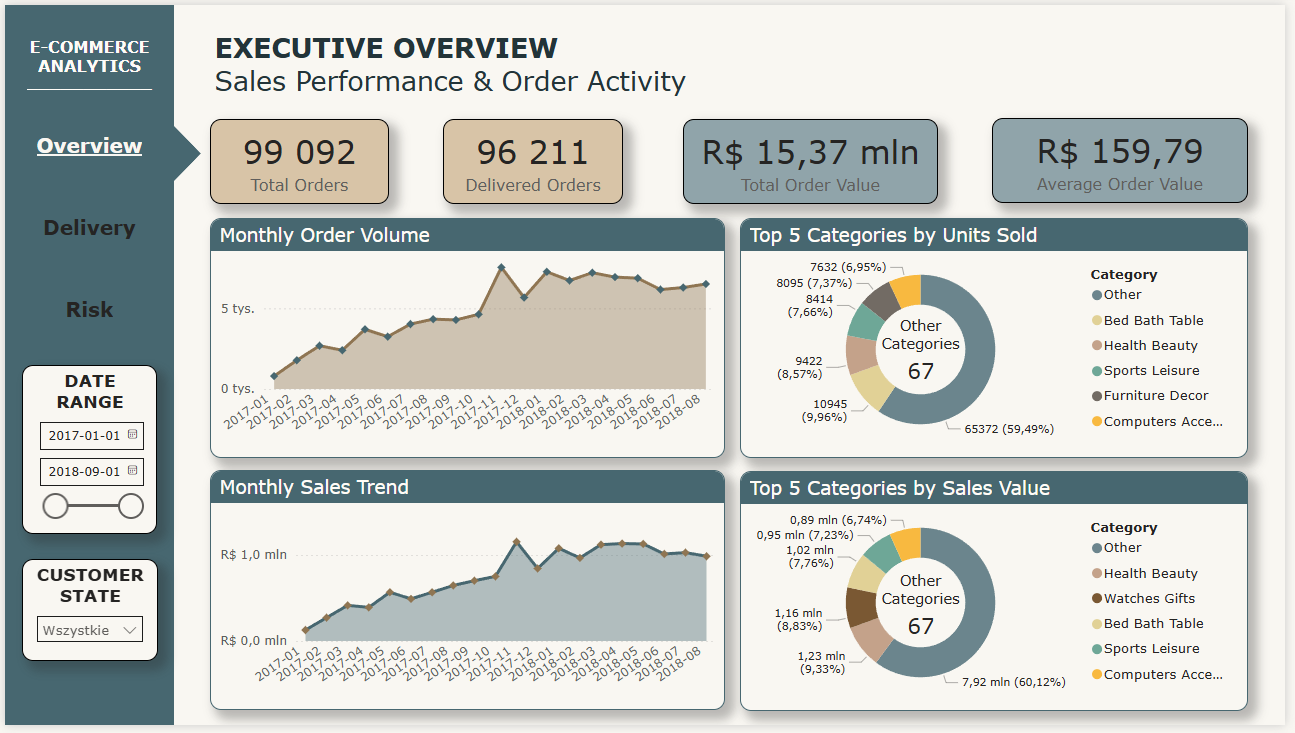

The dashboard page shown, as its layout file describes it:
{"tool":"powerbi","page":{"name":"Overview","canvas":[1280,720],"ordinal":0},"visuals":[{"type":"textbox","box":[204.5,20.6,741,83.6],"z":0},{"type":"shape","box":[127.4,113.2,68.2,70.8],"z":0,"group":"g1"},{"type":"group","id":"g1","title":"Grupa 2","box":[0,0,195.5,720.4],"z":1000},{"type":"shape","box":[0,0,168.5,720.4],"z":1000,"group":"g1"},{"type":"group","id":"g2","title":"Grupa 1","box":[16.7,27,136.4,70.8],"z":2000,"group":"g1"},{"type":"textbox","box":[16.7,27,136.4,69.5],"z":2000,"group":"g2"},{"type":"card","fields":{"Values":["_Measures.Total Orders"]},"box":[205,113.8,178.8,85],"z":2000},{"type":"textbox","box":[16.7,61.7,136.4,36],"z":3000,"group":"g2"},{"type":"pageNavigator","box":[16.7,104.2,136.4,238],"z":3000,"group":"g1"},{"type":"card","fields":{"Values":["_Measures.Delivered Orders"]},"box":[437.5,113.8,180,85],"z":3000},{"type":"card","fields":{"Values":["_Measures.Total Order Value"]},"box":[677.5,113.8,255,85],"z":4000},{"type":"slicer","title":"DATE RANGE","fields":{"Values":["DimDate.Date"]},"box":[16.7,360.2,135.1,168.5],"z":4000,"group":"g1"},{"type":"card","fields":{"Values":["_Measures.Average Order Value"]},"box":[986.7,113.2,256,85],"z":5000},{"type":"slicer","title":"CUSTOMER STATE","fields":{"Values":["Orders.customer_state"]},"box":[16.7,554.5,136.4,101.6],"z":5000,"group":"g1"},{"type":"lineChart","title":"Monthly Order Volume","fields":{"Category":["DimDate.Year-Month"],"Y":["_Measures.Total Orders"]},"box":[205,212.5,515,240],"z":6000},{"type":"lineChart","title":"Monthly Sales Trend","fields":{"Category":["DimDate.Year-Month"],"Y":["_Measures.Total Order Value"]},"box":[205,465,515,240],"z":7000},{"type":"donutChart","title":"\tTop 5 Categories by Units Sold","fields":{"Category":["CategoryDonut.Category"],"Y":["_Measures.Donut Items Sold"]},"box":[735,212.5,507.5,240],"z":8000},{"type":"donutChart","title":"Top 5 Categories by Sales Value","fields":{"Category":["CategoryDonut.Category"],"Y":["_Measures.Donut Sales Value"]},"box":[735,466.2,507.5,240],"z":9000},{"type":"card","title":"Other Categories","fields":{"Values":["_Measures.Other Categories (Items)"]},"box":[851.2,311.2,130,76.2],"z":10000},{"type":"card","title":"Other Categories","fields":{"Values":["_Measures.Other Categories (Sales)"]},"box":[851.2,566.2,130,76.2],"z":11000}]}

Visuals, with their boxes in screenshot pixels (x1, y1, x2, y2), scaled from the page's 1280x720 canvas onto the 1295x733 screenshot:
textbox: 207/21/957/106
shape: 129/115/198/187
"Grupa 2" group: 0/0/198/732
shape: 0/0/170/732
"Grupa 1" group: 17/27/155/100
textbox: 17/27/155/98
card - _Measures.Total Orders: 207/116/388/202
textbox: 17/63/155/99
pageNavigator: 17/106/155/348
card - _Measures.Delivered Orders: 443/116/625/202
card - _Measures.Total Order Value: 685/116/943/202
"DATE RANGE" slicer: 17/367/154/538
card - _Measures.Average Order Value: 998/115/1257/202
"CUSTOMER STATE" slicer: 17/565/155/668
"Monthly Order Volume" lineChart: 207/216/728/461
"Monthly Sales Trend" lineChart: 207/473/728/718
"	Top 5 Categories by Units Sold" donutChart: 744/216/1257/461
"Top 5 Categories by Sales Value" donutChart: 744/475/1257/719
"Other Categories" card: 861/317/993/394
"Other Categories" card: 861/576/993/654
